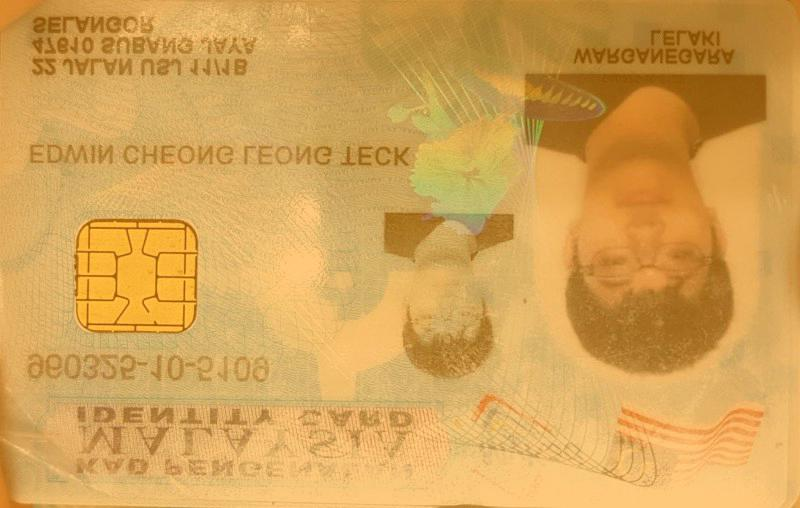hologramB: (407, 92, 525, 210)
